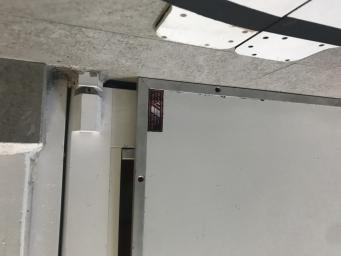street: (230, 0, 341, 29)
